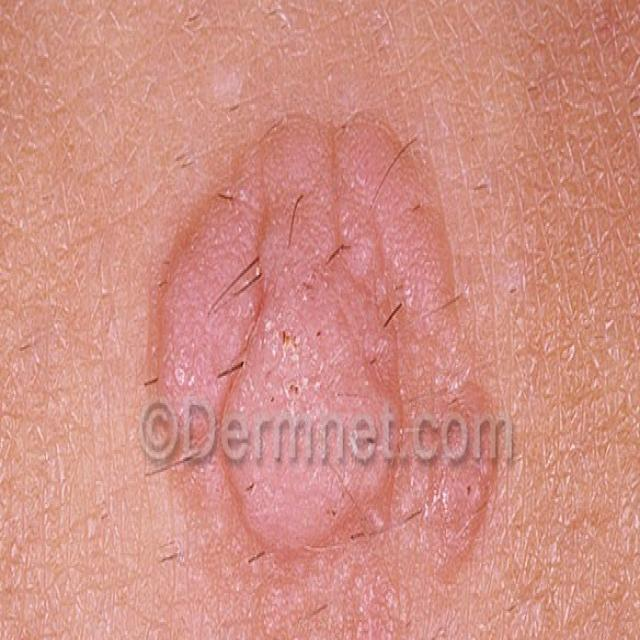Warts: (134, 88, 510, 640)
